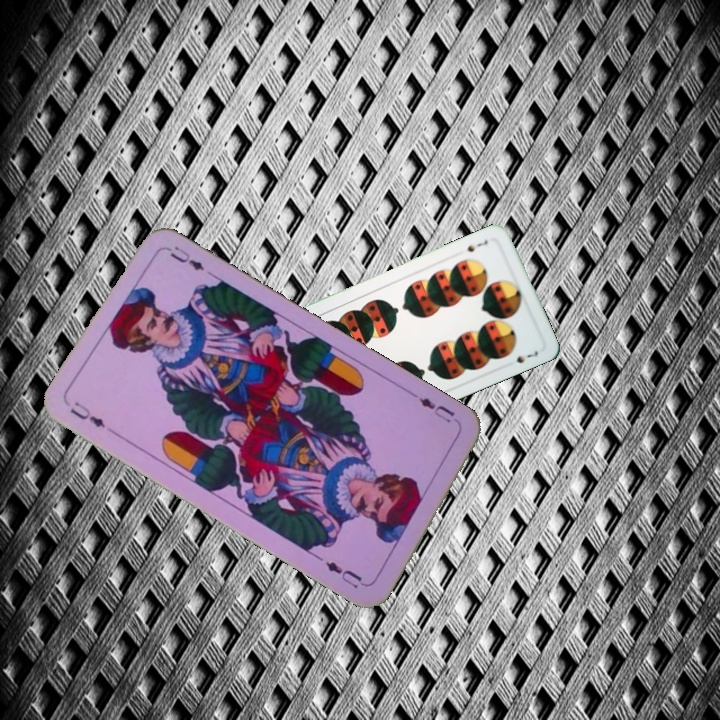EU: (410, 390, 463, 428), (66, 397, 109, 431)
S7: (463, 236, 490, 254)
